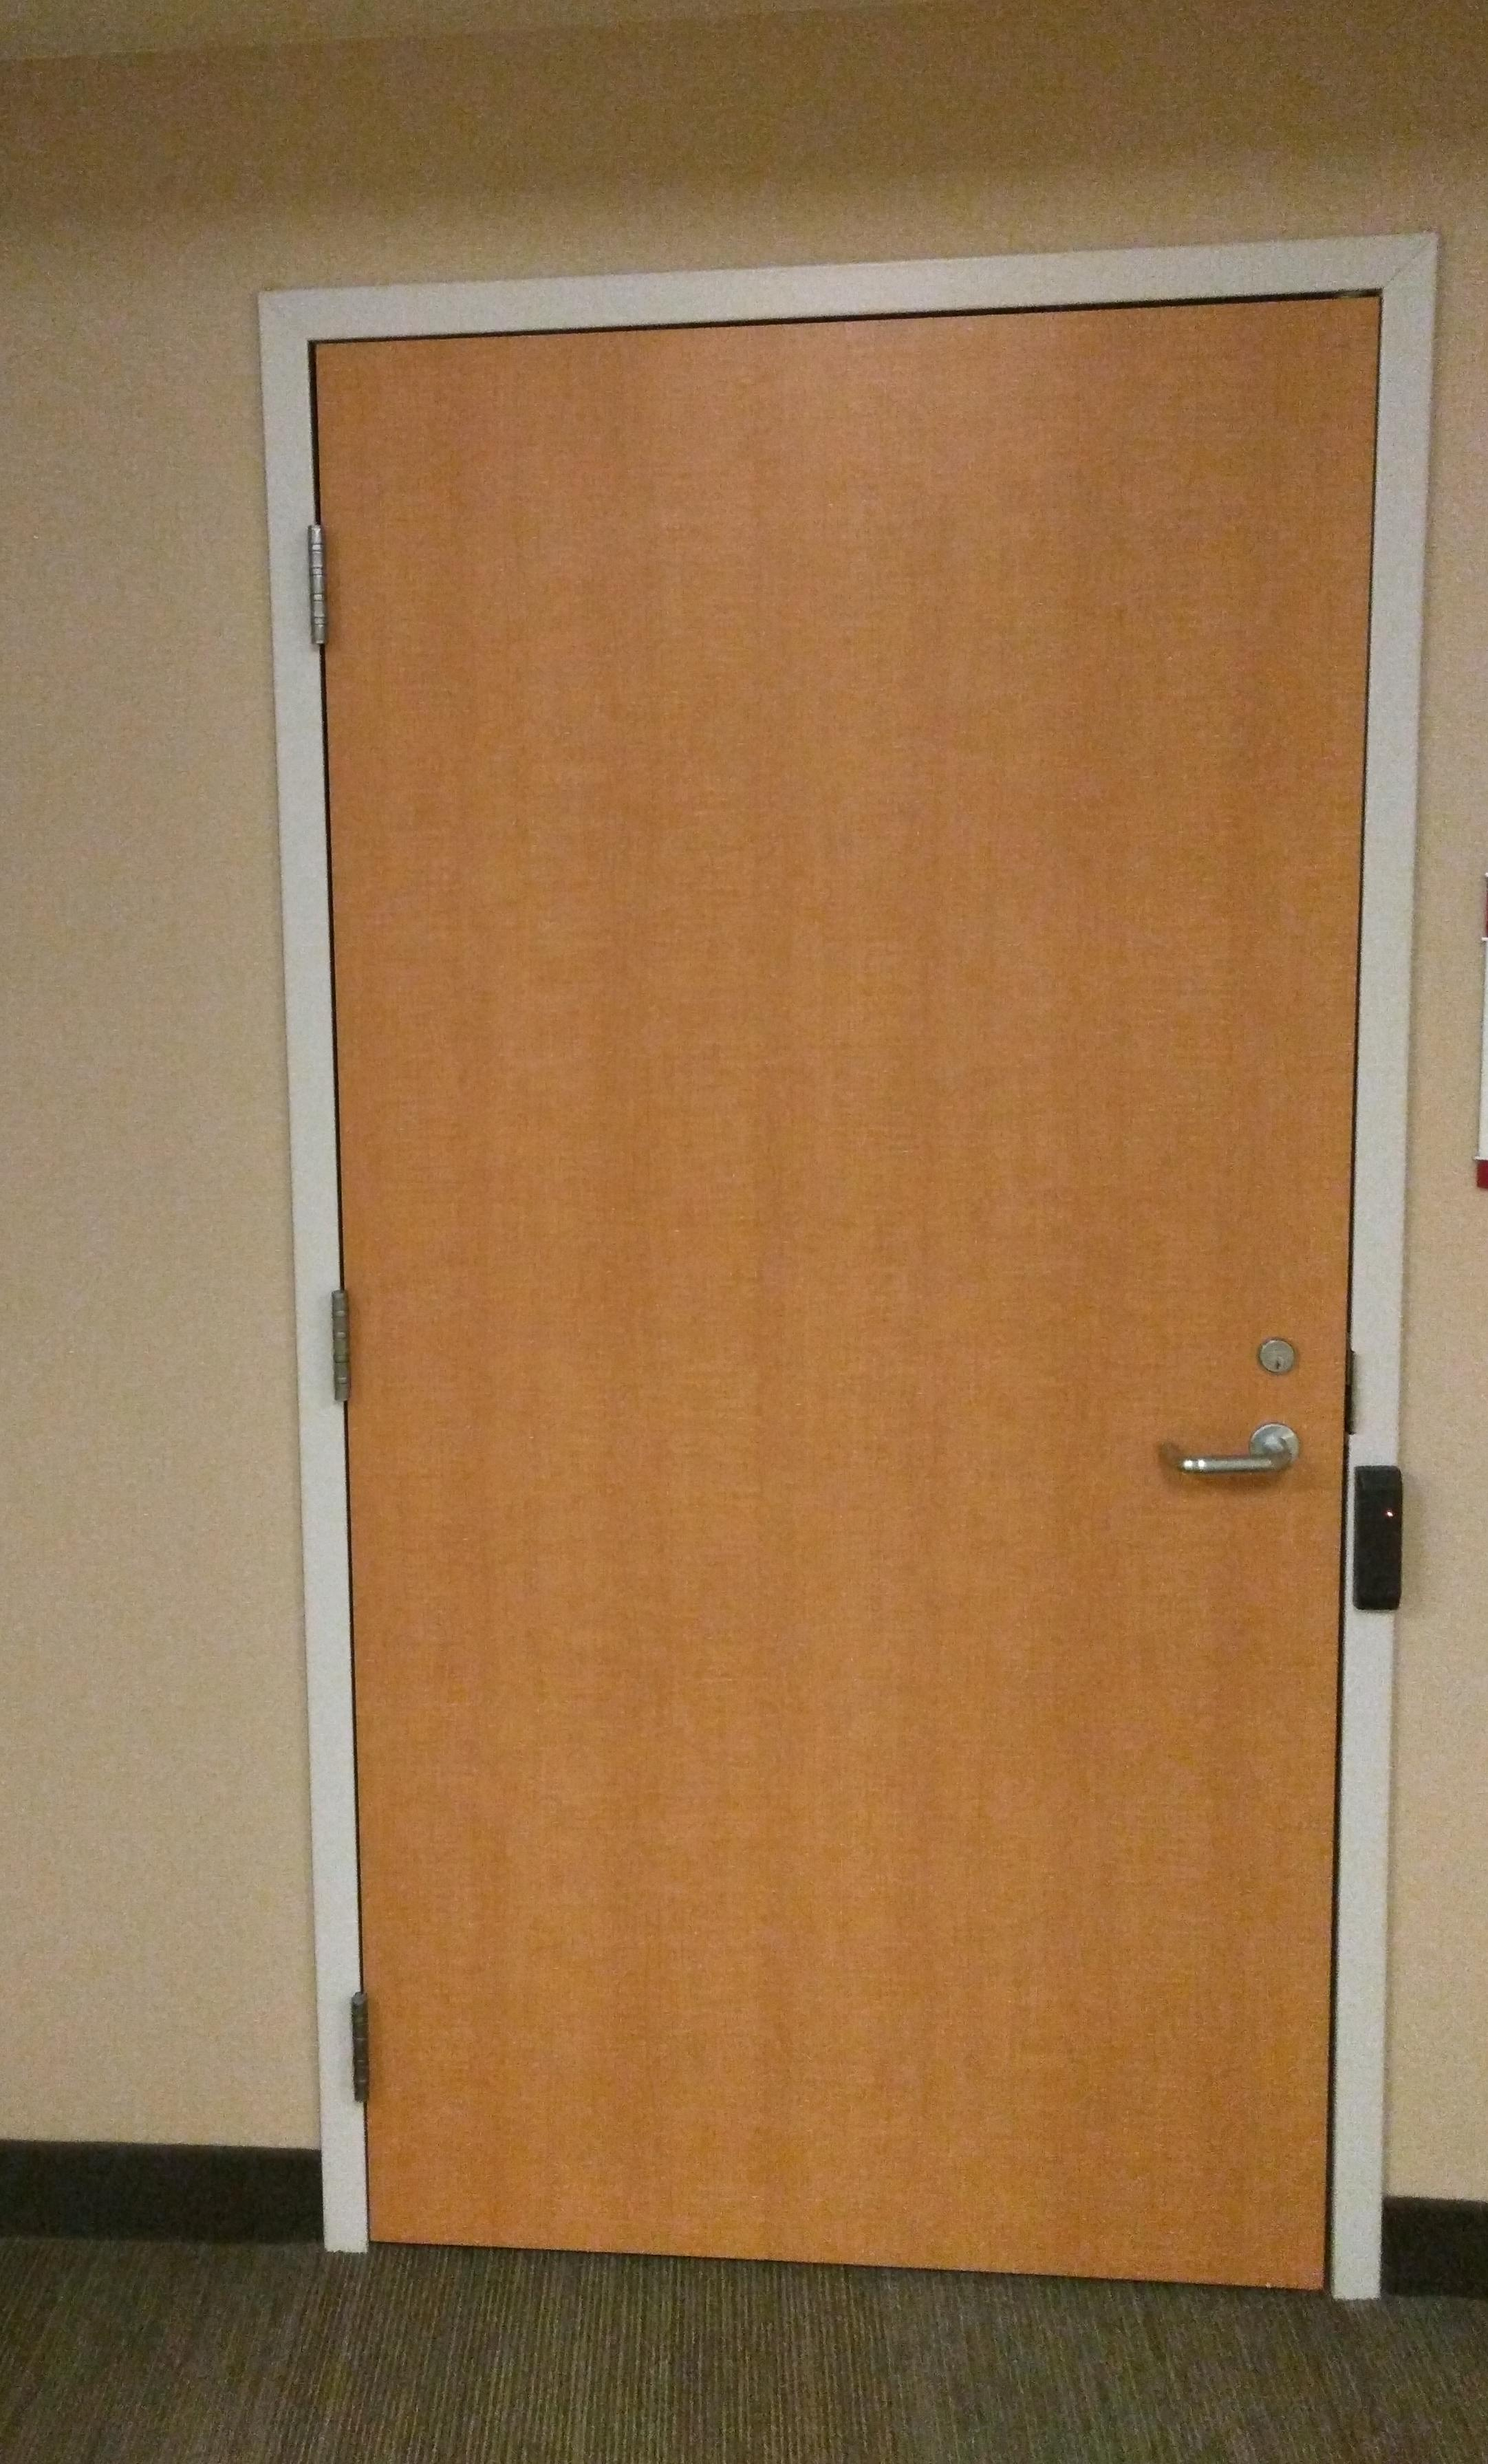door: (259, 234, 1442, 2299)
